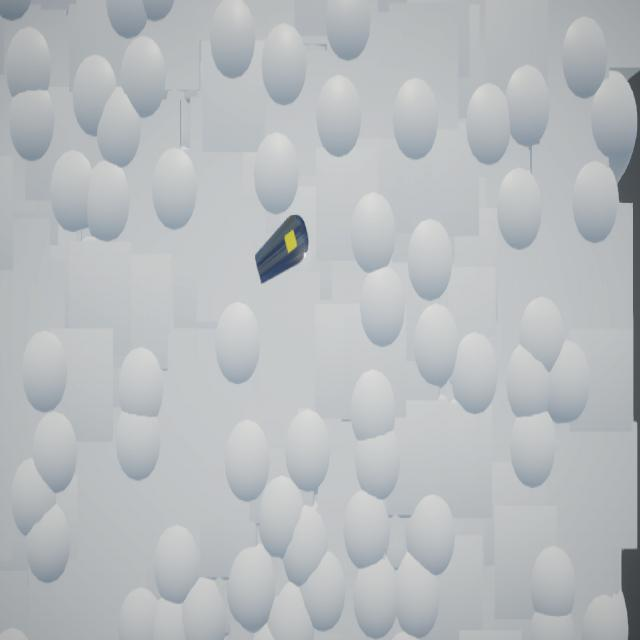handle_folk: (256, 216, 309, 285)
